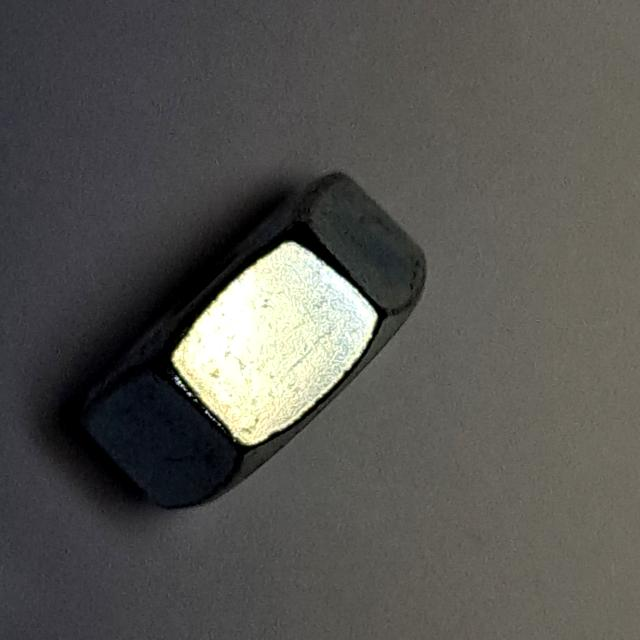Side_Excellent: (51, 164, 454, 530)
